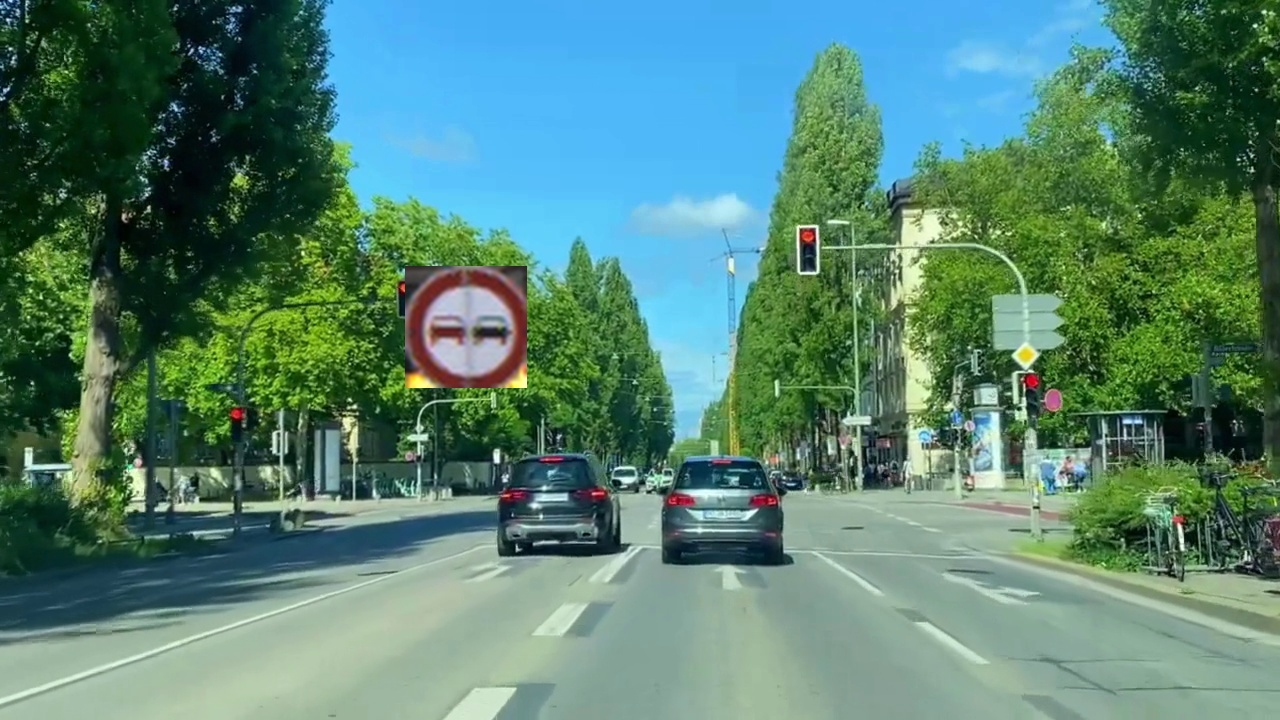No passing: (405, 266, 527, 388)
